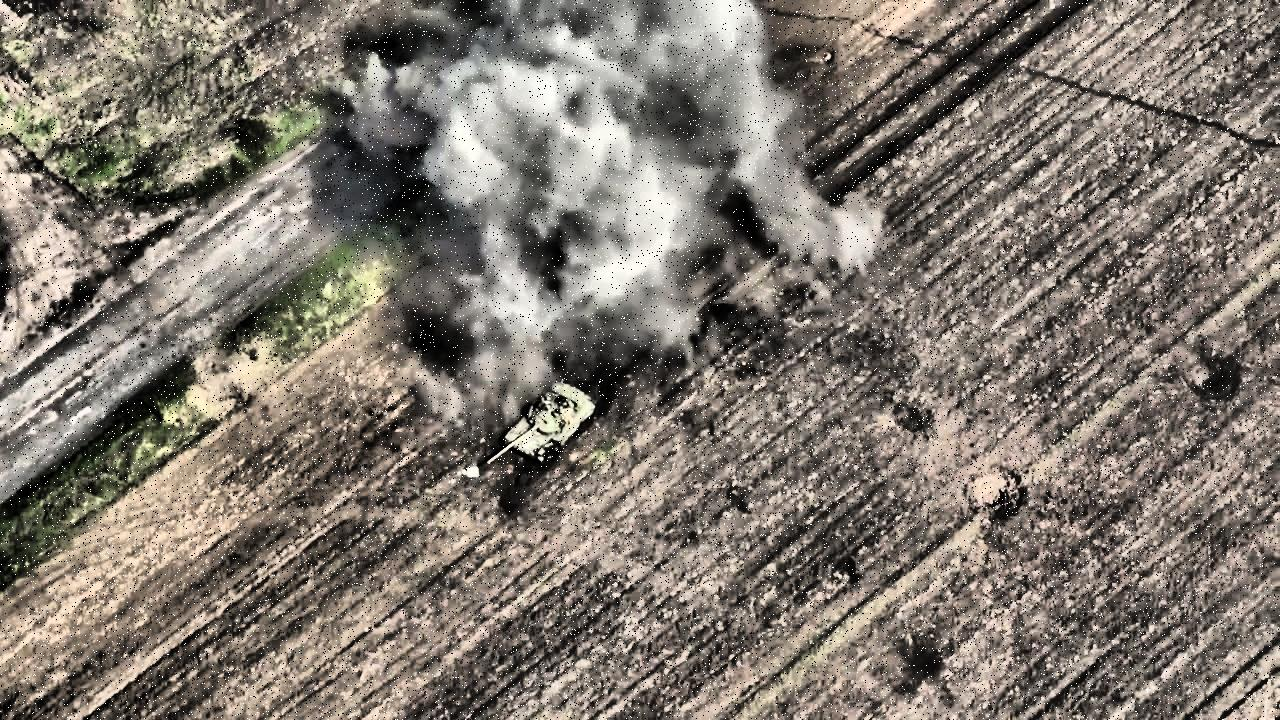military-vehicle: (484, 381, 596, 471)
